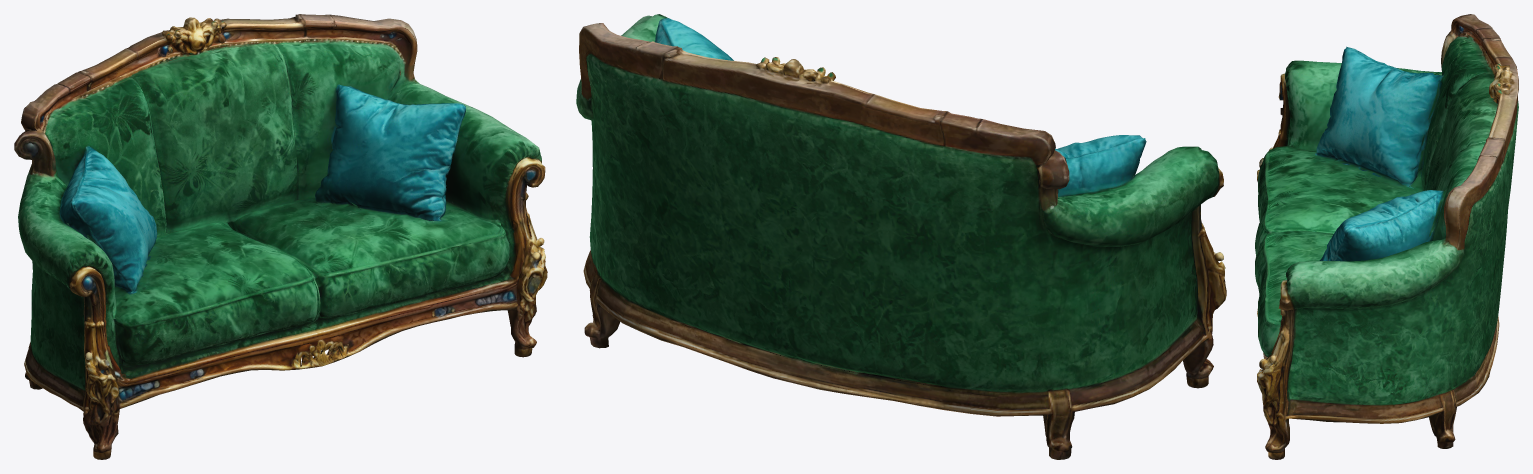
File: velvet+sofa+3d+model (1).glb
3 views of the same model, side by side, from view 1: azimuth 30°, elevation 25°; view 2: azimuth 150°, elevation 25°; view 3: azimuth 270°, elevation 25° (orthographic). The views are drawn at different scales.
Parts seen in each view (by area): view 1: tripo_node_9c011463-85c6-46ed-890b-2912a8a2ac07; view 2: tripo_node_9c011463-85c6-46ed-890b-2912a8a2ac07; view 3: tripo_node_9c011463-85c6-46ed-890b-2912a8a2ac07.
Part boxes in pixels (x1=…): tripo_node_9c011463-85c6-46ed-890b-2912a8a2ac07: x1=14, y1=14, x2=547, y2=459; tripo_node_9c011463-85c6-46ed-890b-2912a8a2ac07: x1=576, y1=14, x2=1226, y2=459; tripo_node_9c011463-85c6-46ed-890b-2912a8a2ac07: x1=1255, y1=14, x2=1518, y2=459.
Bounding box in the file's own units: 0.9781 × 0.5915 × 0.4919.
1 material, 1 textured.
